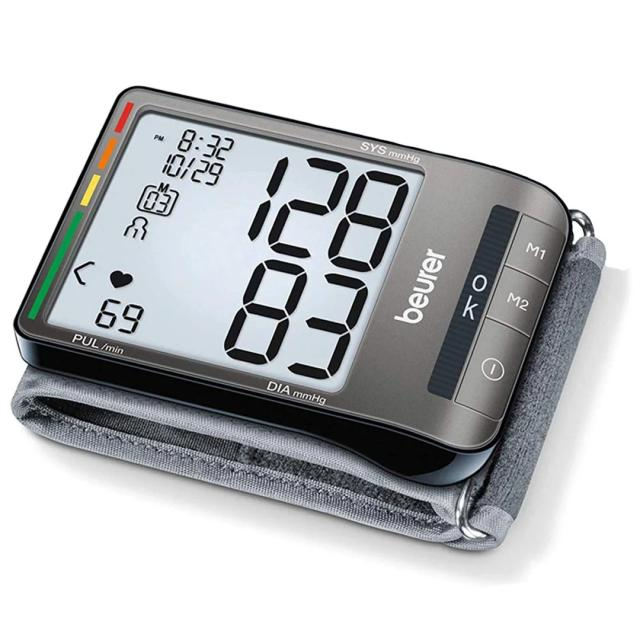dia: (195, 243, 387, 400)
pul: (79, 288, 152, 343)
ssd: (46, 95, 426, 402)
sys: (221, 134, 421, 282)
